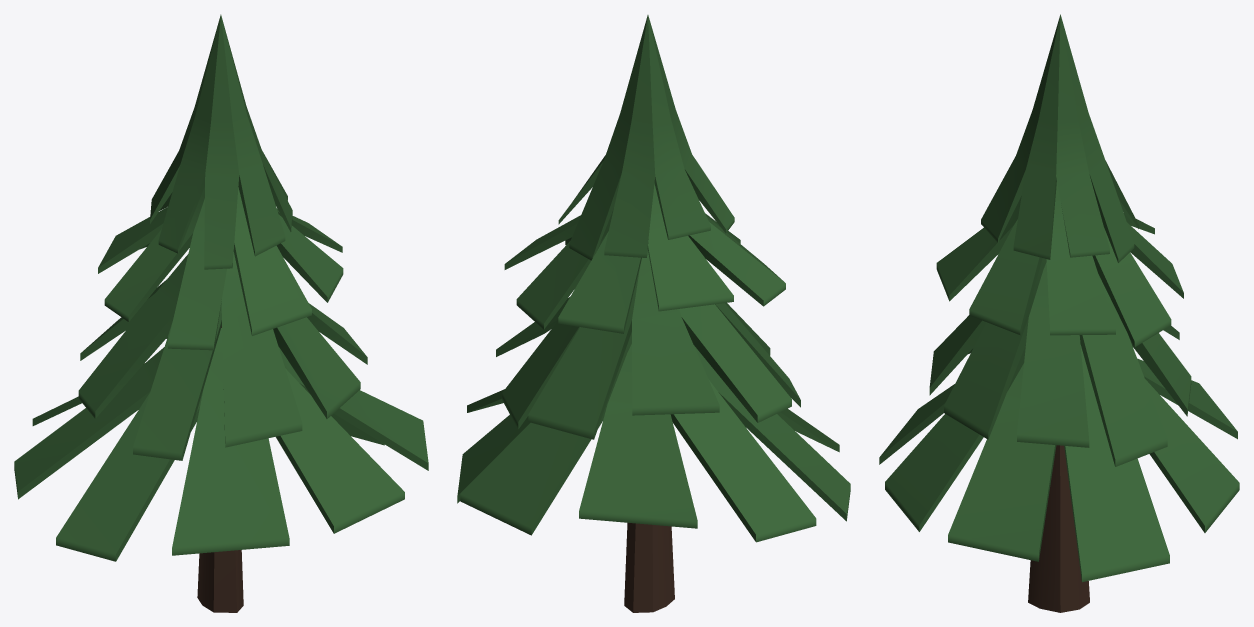
File: Tree_Spruce2.fbx
3 views of the same model, side by side, from view 1: azimuth 30°, elevation 25°; view 2: azimuth 150°, elevation 25°; view 3: azimuth 270°, elevation 25° (orthographic).
Visible parts, largest first — view 1: pinetreeshort; view 2: pinetreeshort; view 3: pinetreeshort.
Boxes of the visible parts, x1,y1,x2,y2 form: pinetreeshort: (14,14,428,612); pinetreeshort: (457,15,850,612); pinetreeshort: (879,14,1239,612).
Size of the model in its own units: 569 by 846 by 469.
